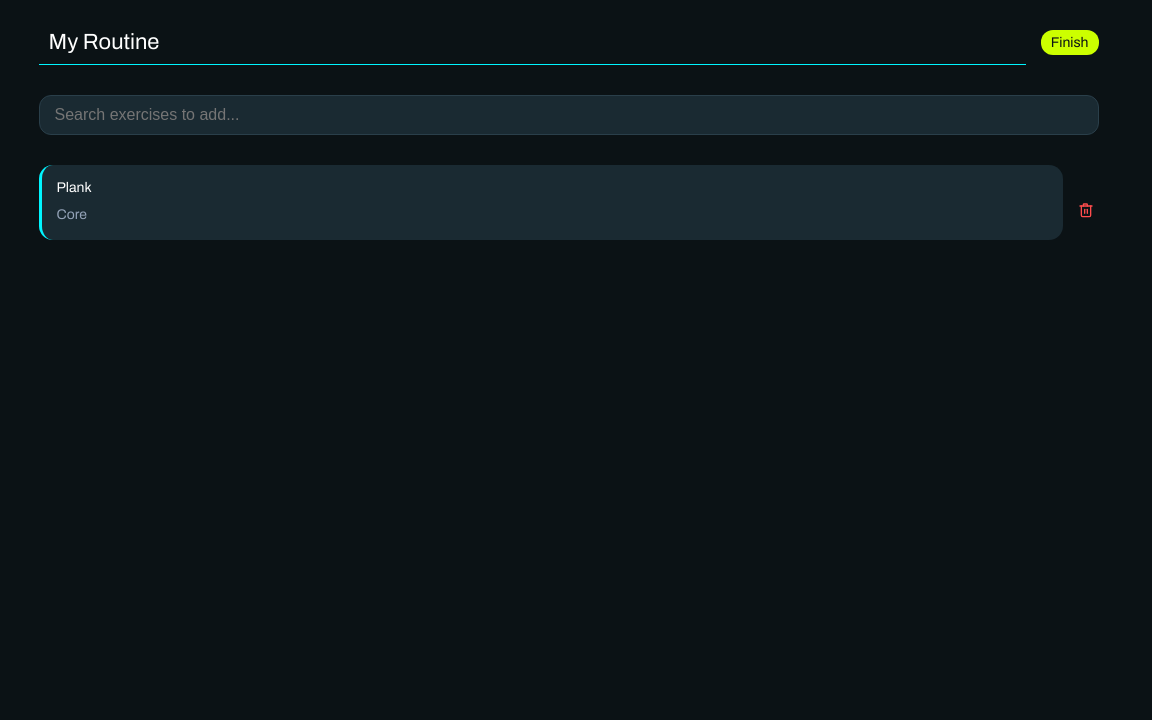
Test: EditRoutinePage › removes an exercise when Remove is clicked and confirmed
Click the button named "Remove Plank".
click(1086, 210)  # box [1072,197,1098,223]
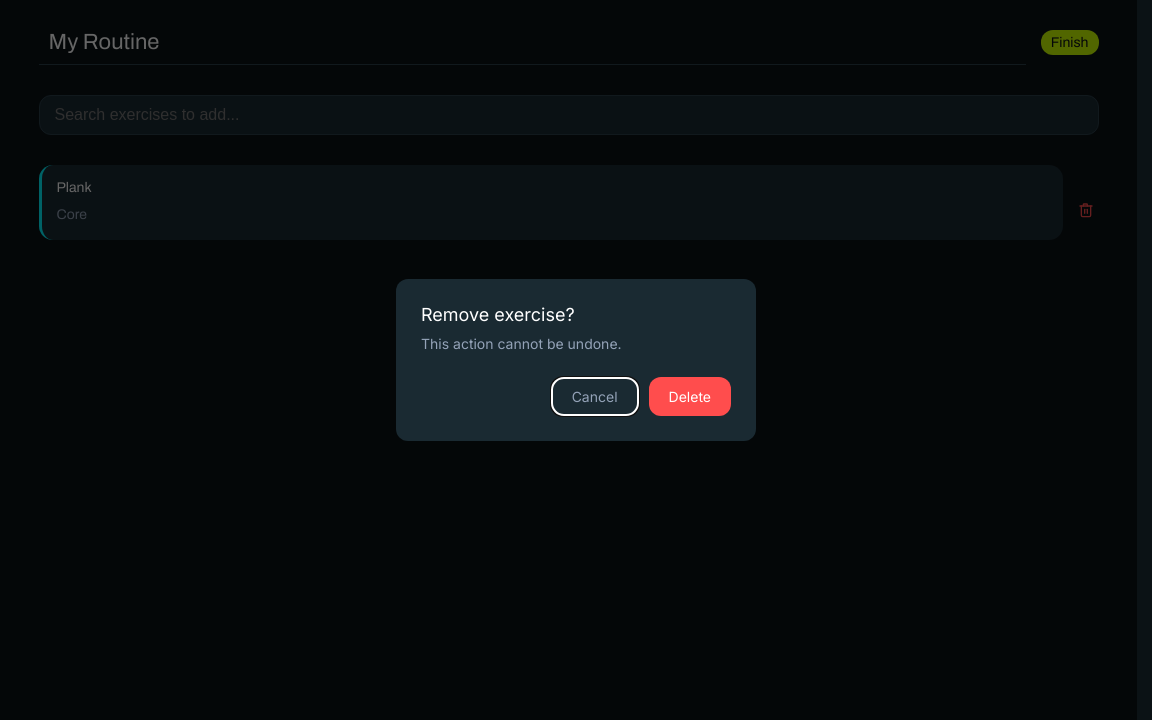
Click the button "Delete".
click(690, 396)  # box [649,377,731,416]
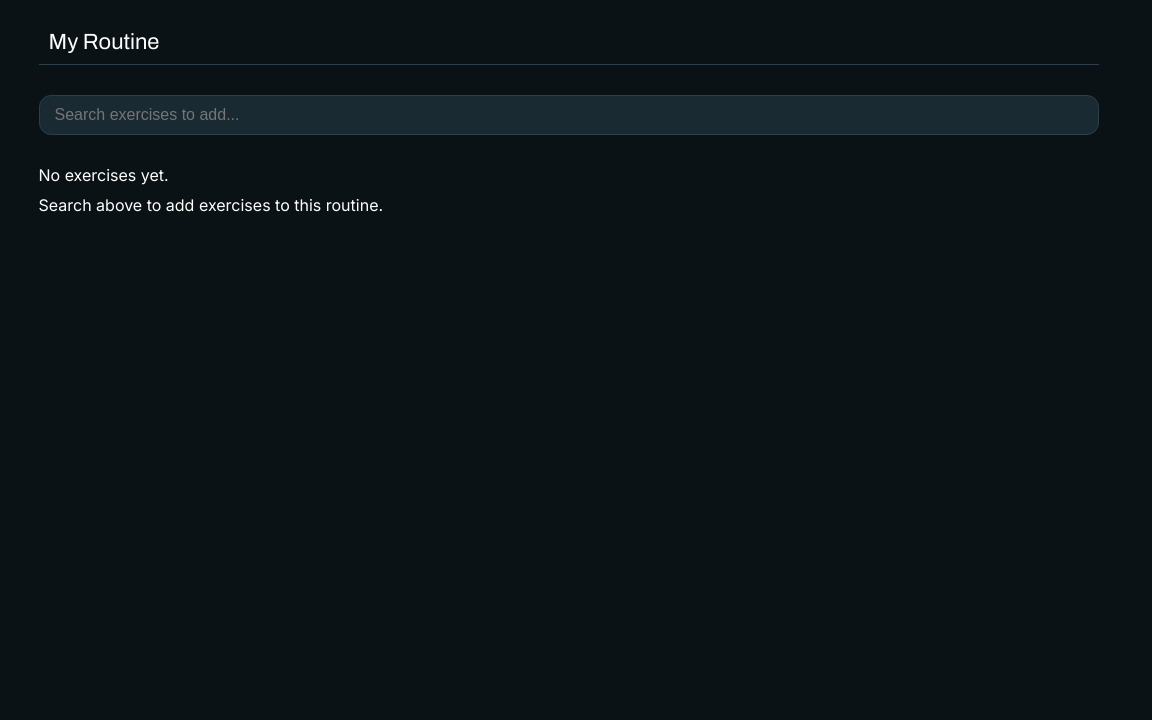
expect the button "Plank" is gone: met
